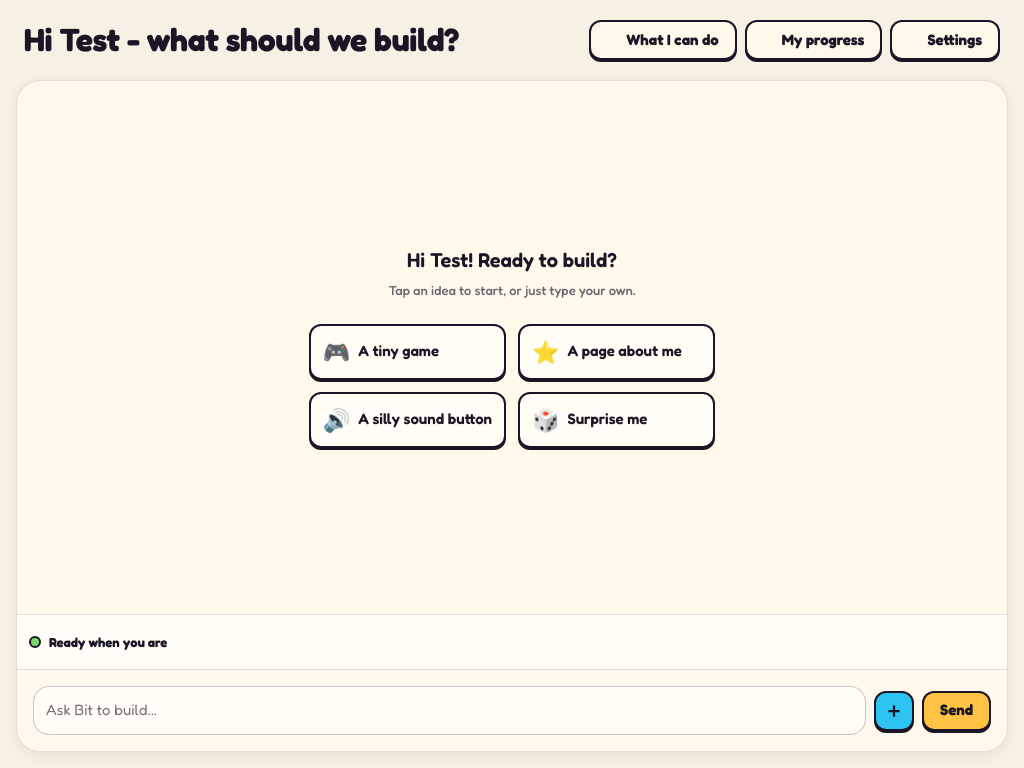
ChatWorkspace header › opens My progress as its own overlay and refreshes progress on open
What coordinates should you click on to do the following:
click the button "My progress"
I would click on:
 (814, 40)
Its box is [745,20,882,60].
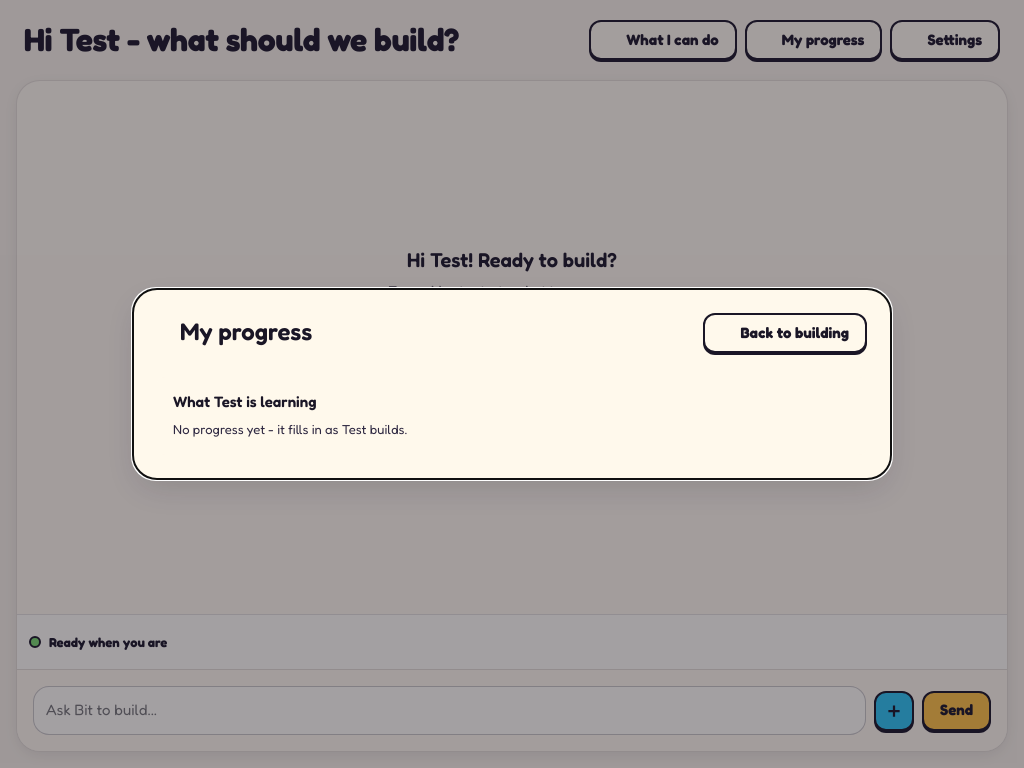
Expected: the dialog with class "hb-progress-overlay" is shown, [132,288,892,480]
